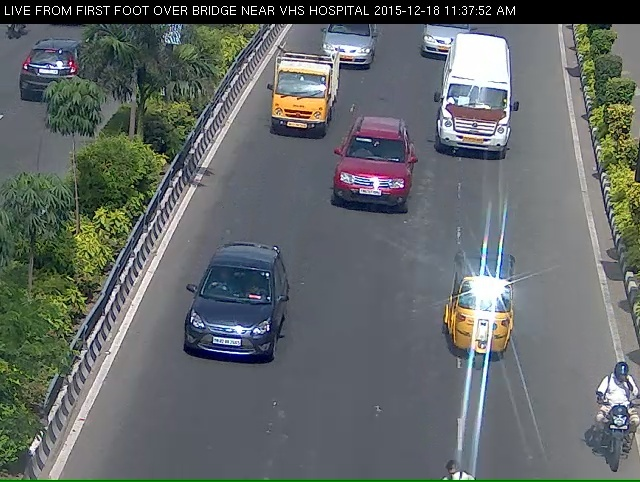Auto: (439, 262, 534, 390), (256, 55, 337, 149)
Bus: (443, 48, 523, 171)
Car: (189, 259, 276, 391), (338, 131, 413, 228), (317, 22, 379, 74), (421, 19, 485, 65), (420, 19, 482, 66)
Person: (593, 376, 628, 479)
